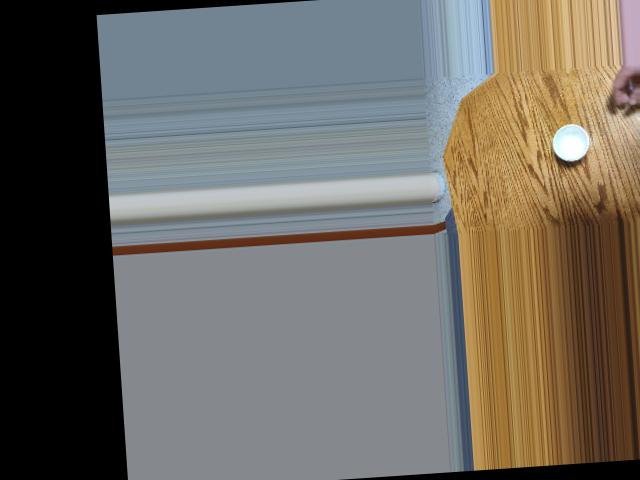cotage: (548, 119, 593, 162)
